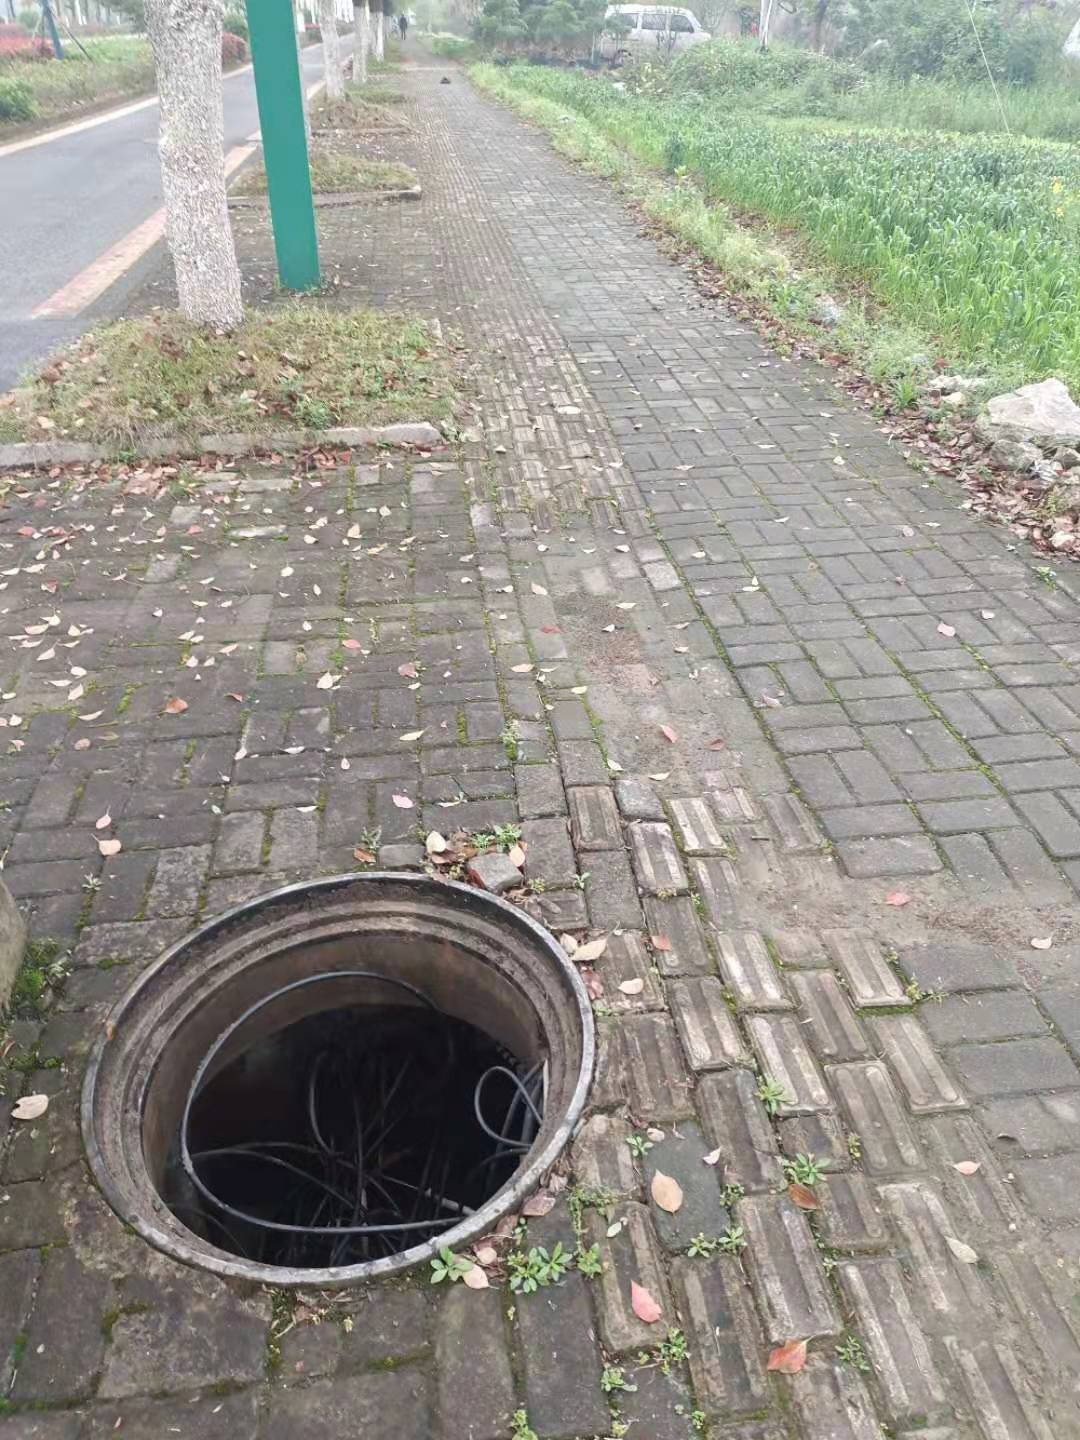lose: (75, 869, 594, 1297)
